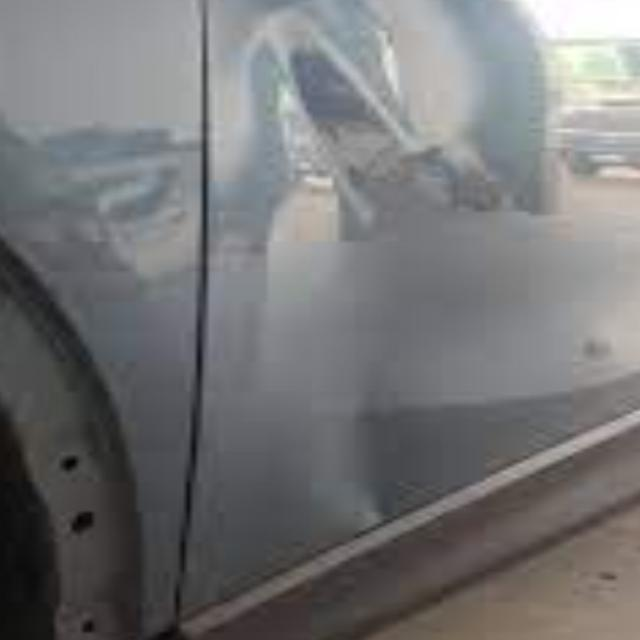dents: (205, 11, 507, 200), (293, 406, 488, 549)
